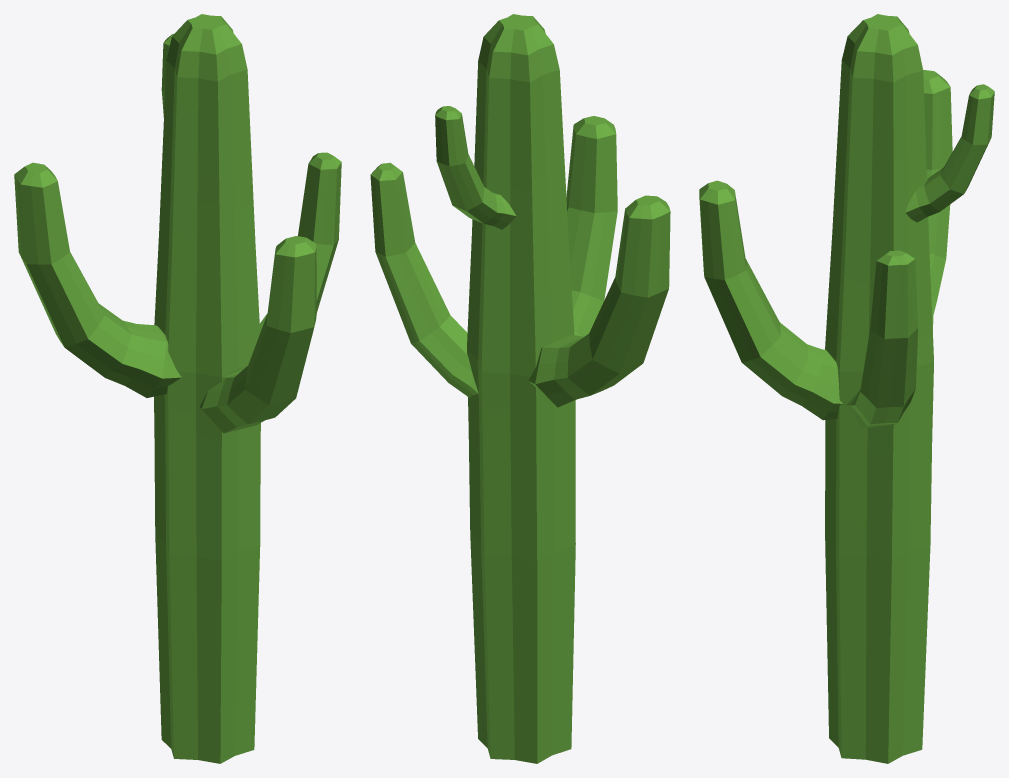
Rendered from Cactus1.fbx.
3 renders of one model, left to right at view 1: azimuth 30°, elevation 25°; view 2: azimuth 150°, elevation 25°; view 3: azimuth 270°, elevation 25°, orthographic.
Visible parts, largest first — view 1: Circle.001; view 2: Circle.001; view 3: Circle.001.
Boxes of the visible parts, x1,y1,x2,y2 form: Circle.001: (14,14,341,763); Circle.001: (370,14,670,763); Circle.001: (699,14,994,763).
Bounding box in the file's own units: 239 × 537 × 199.
